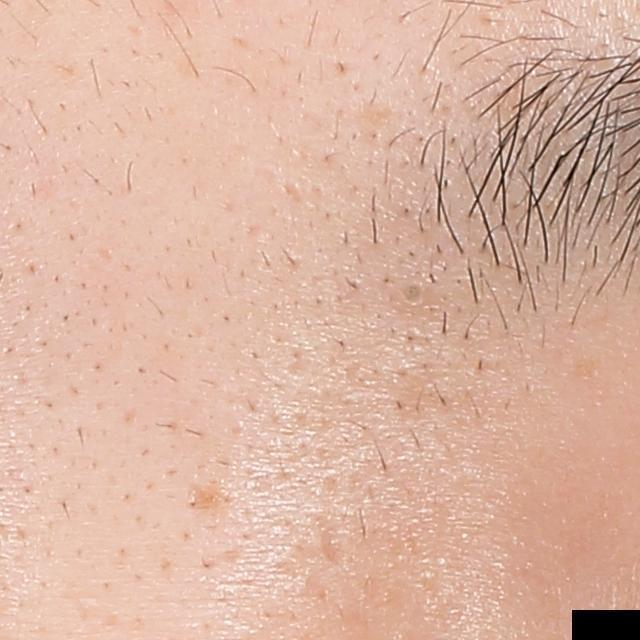atrophic_scar: (318, 518, 348, 570)
